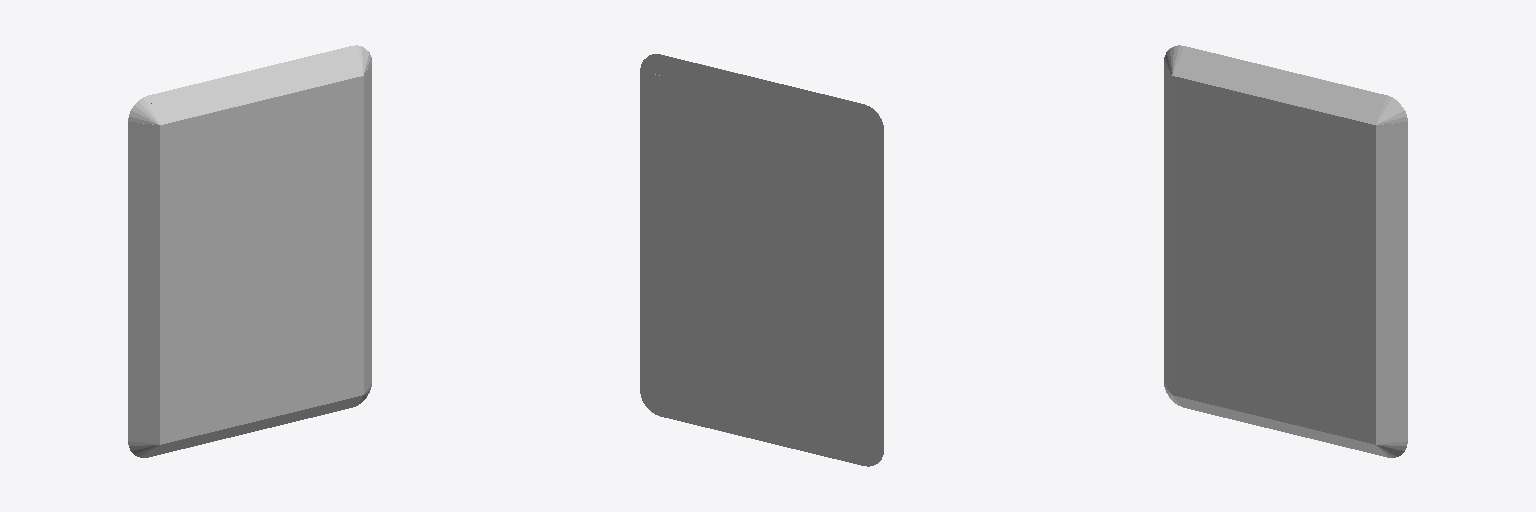
The model's file is CardModel.obj.
3 renders of one model, left to right at view 1: azimuth 30°, elevation 25°; view 2: azimuth 150°, elevation 25°; view 3: azimuth 330°, elevation 25°, orthographic.
Visible parts, largest first — view 1: obj_0; view 2: obj_0; view 3: obj_0.
Boxes of the visible parts, box(x1,y1,x2,y2) form: obj_0: box(128, 45, 371, 457); obj_0: box(640, 54, 883, 466); obj_0: box(1164, 45, 1407, 457).
Bounding box in the file's own units: 12 × 17 × 1.